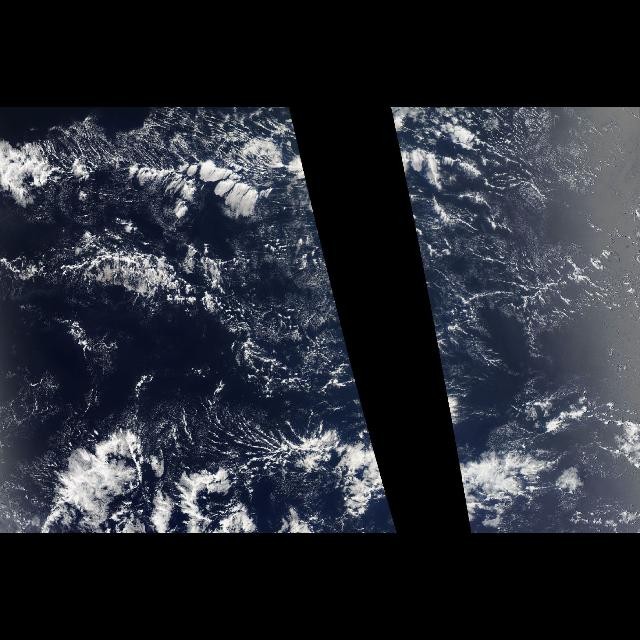Fish: (52, 388, 376, 534), (1, 110, 296, 240)
Gravel: (425, 117, 639, 399)
Sugar: (438, 145, 584, 347)
